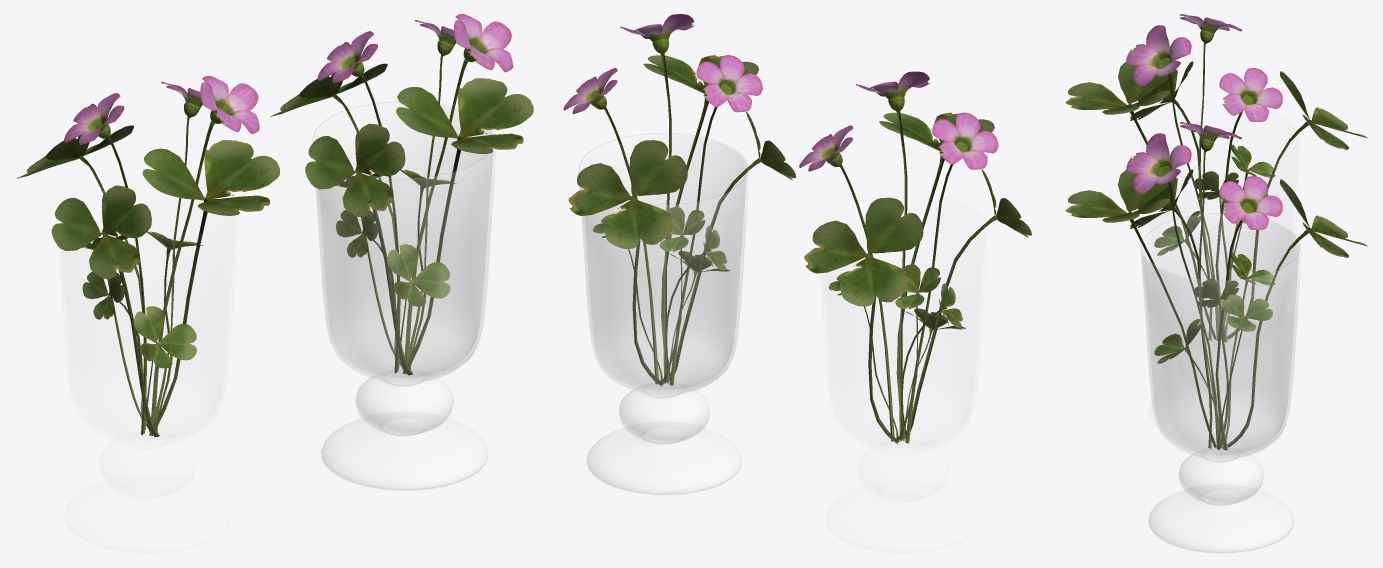
The model's file is GlassVaseFlowers.glb.
3 views of the same model, side by side, from view 1: azimuth 30°, elevation 25°; view 2: azimuth 150°, elevation 25°; view 3: azimuth 270°, elevation 25° (orthographic). The views are drawn at different scales.
Parts seen in each view (by area): view 1: GlassTransmission, Flowers1, Flowers2; view 2: GlassTransmission, Flowers1, Flowers2; view 3: GlassTransmission, Flowers2, Flowers1.
Boxes of the visible parts, x1,y1,x2,y2 form: GlassTransmission: (313, 101, 495, 490); Flowers1: (16, 76, 279, 437); Flowers2: (270, 14, 533, 375); GlassTransmission: (579, 133, 749, 495); Flowers1: (799, 71, 1031, 444); Flowers2: (563, 14, 795, 386); GlassTransmission: (1141, 213, 1301, 553); Flowers2: (1065, 122, 1367, 450); Flowers1: (1065, 14, 1367, 342).
Bounding box in the file's own units: 0.2157 × 0.2032 × 0.1425.
Materials: 3 (1 with a texture image).
